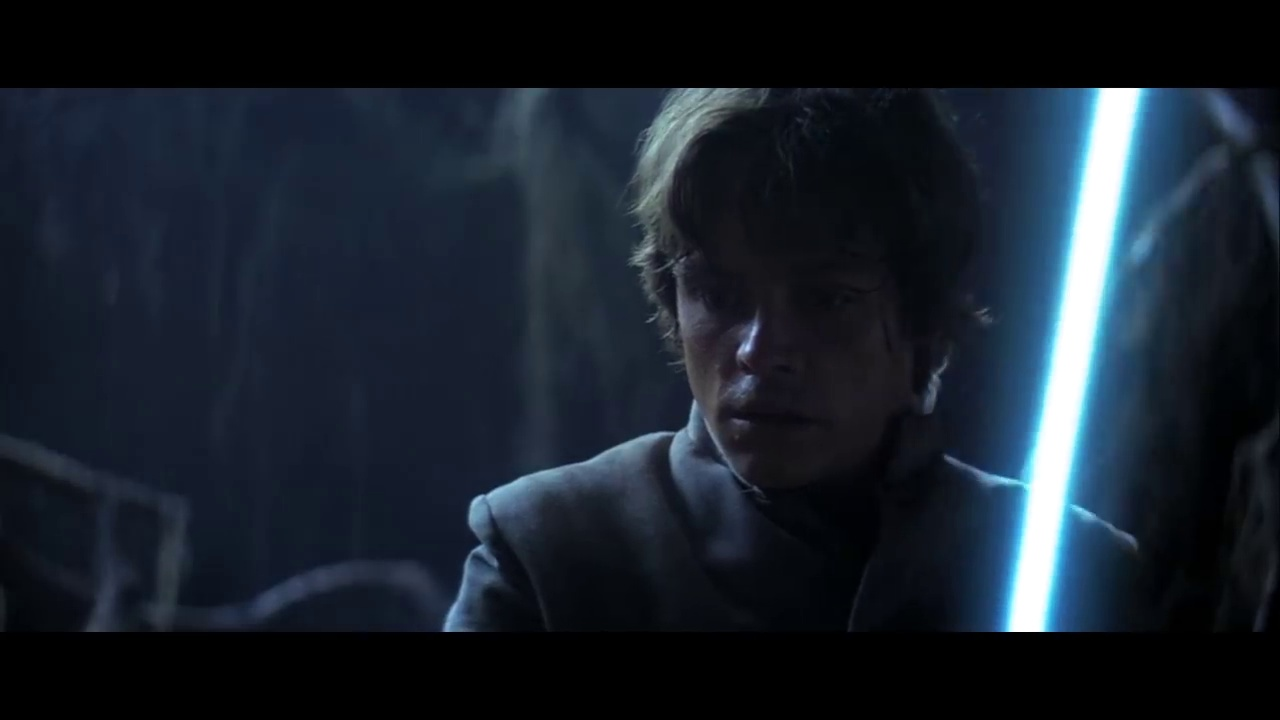lightsaber: (981, 84, 1167, 634)
